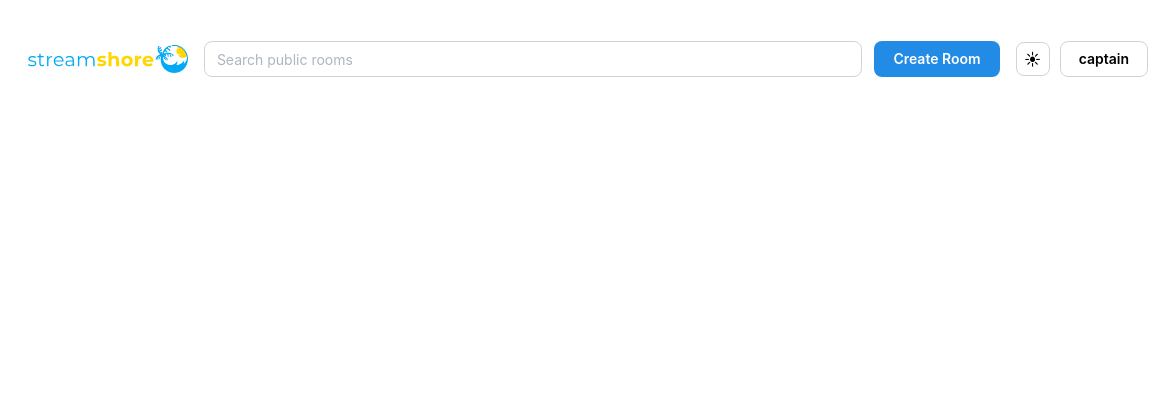
Test: PrimaryNavigation › signs authenticated users out from the account menu
Click the button "captain" at {"x": 1104, "y": 59}, box [1060,41,1148,77]
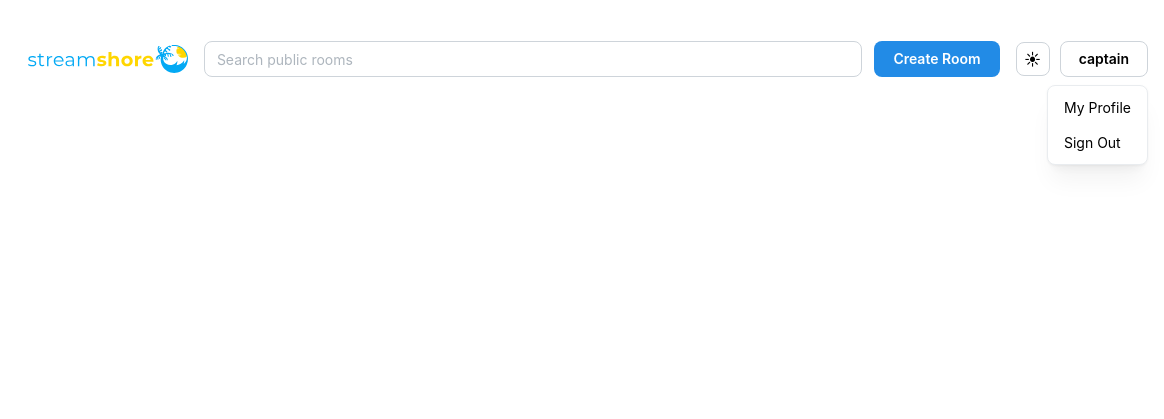
Click the menu item "Sign Out" at {"x": 1098, "y": 142}, box [1052,125,1143,160]
(page scrolled)
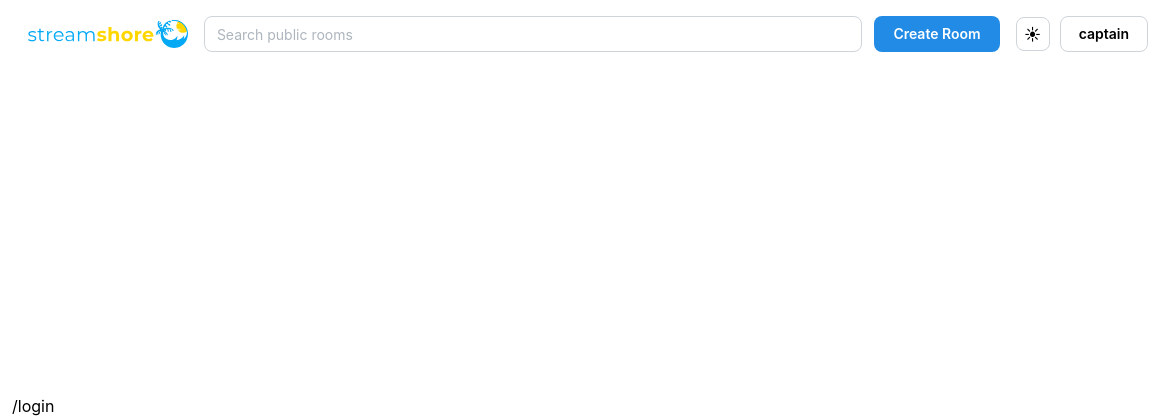
expect the text with test id "current-location" reads "/login": met, box [12,396,54,416]
